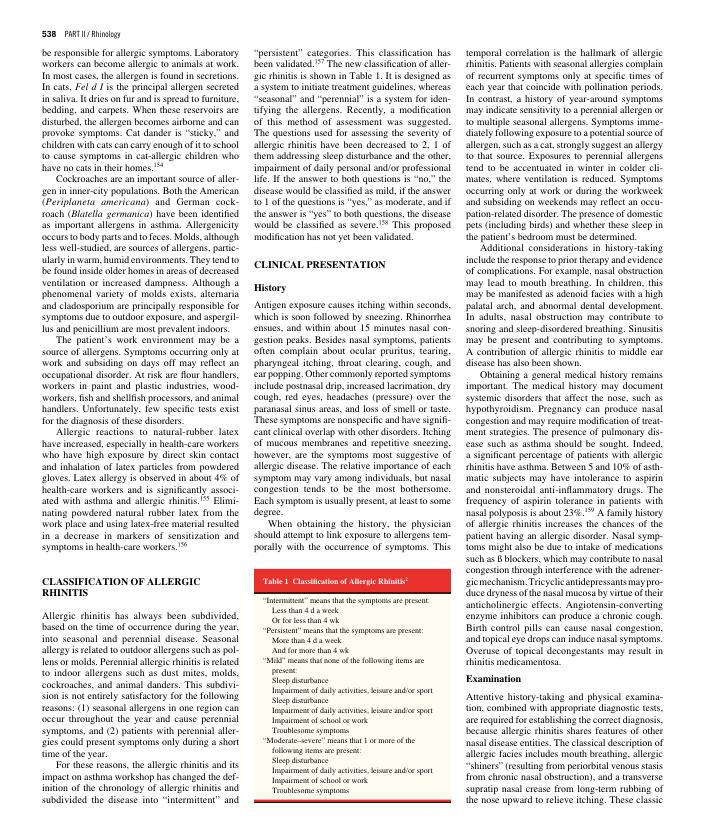caption: (262, 576, 409, 587)
header: (64, 29, 122, 40)
sub-section-heading: (40, 576, 202, 598), (253, 259, 387, 270), (465, 673, 522, 684), (253, 282, 288, 294)
table: (254, 592, 451, 803)
text: (464, 47, 665, 668), (41, 47, 240, 553), (252, 299, 452, 555), (251, 48, 452, 244), (41, 609, 241, 805), (465, 691, 666, 807)
